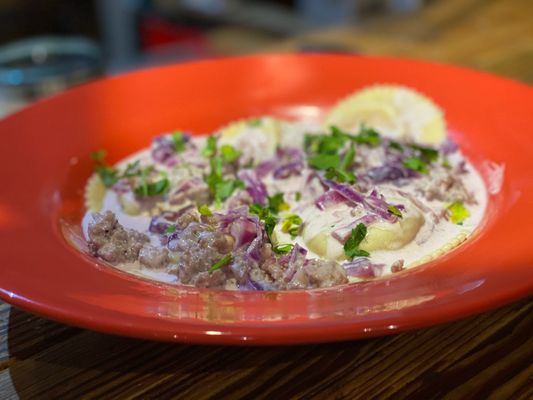sushi: (18, 51, 524, 347)
